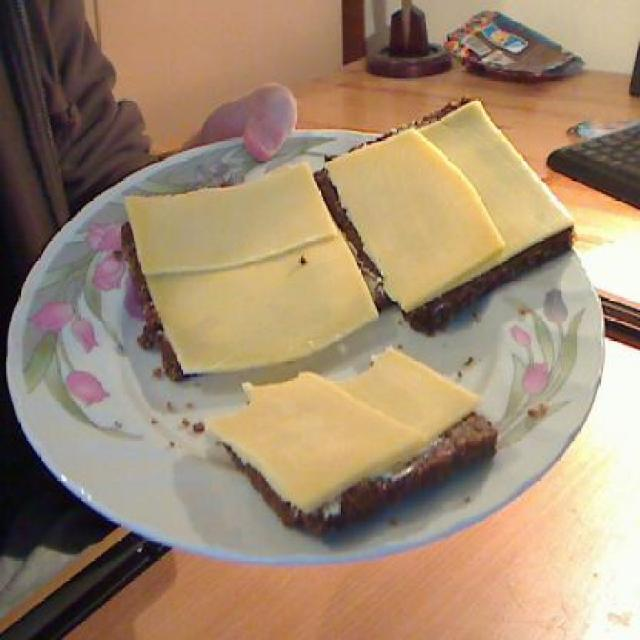Cheese: (324, 96, 578, 310), (143, 224, 382, 372), (322, 122, 507, 310), (202, 364, 424, 513), (124, 162, 338, 270), (331, 343, 484, 465)
